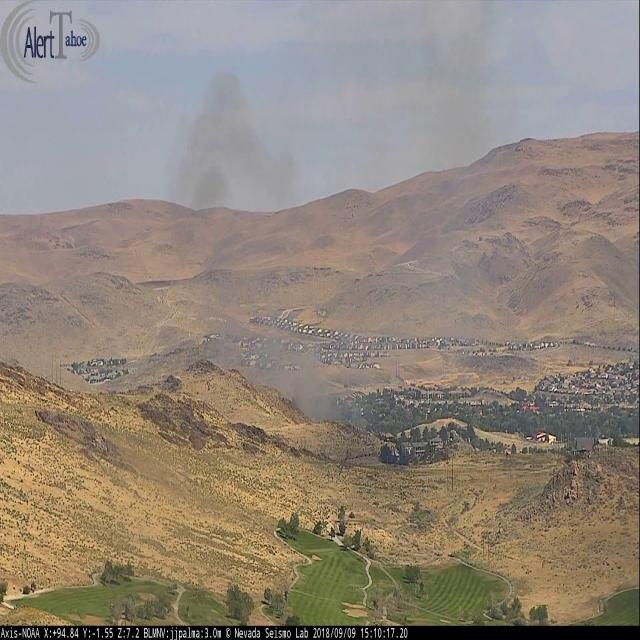smoke: (288, 2, 515, 420), (152, 59, 344, 389)
